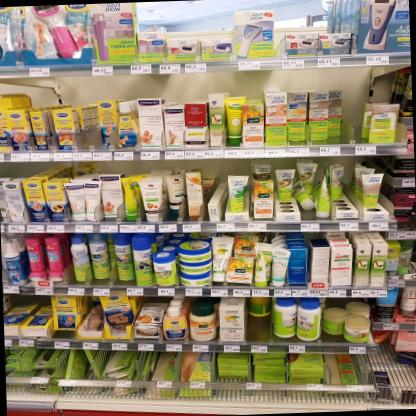empty_space: (246, 316, 271, 340)
